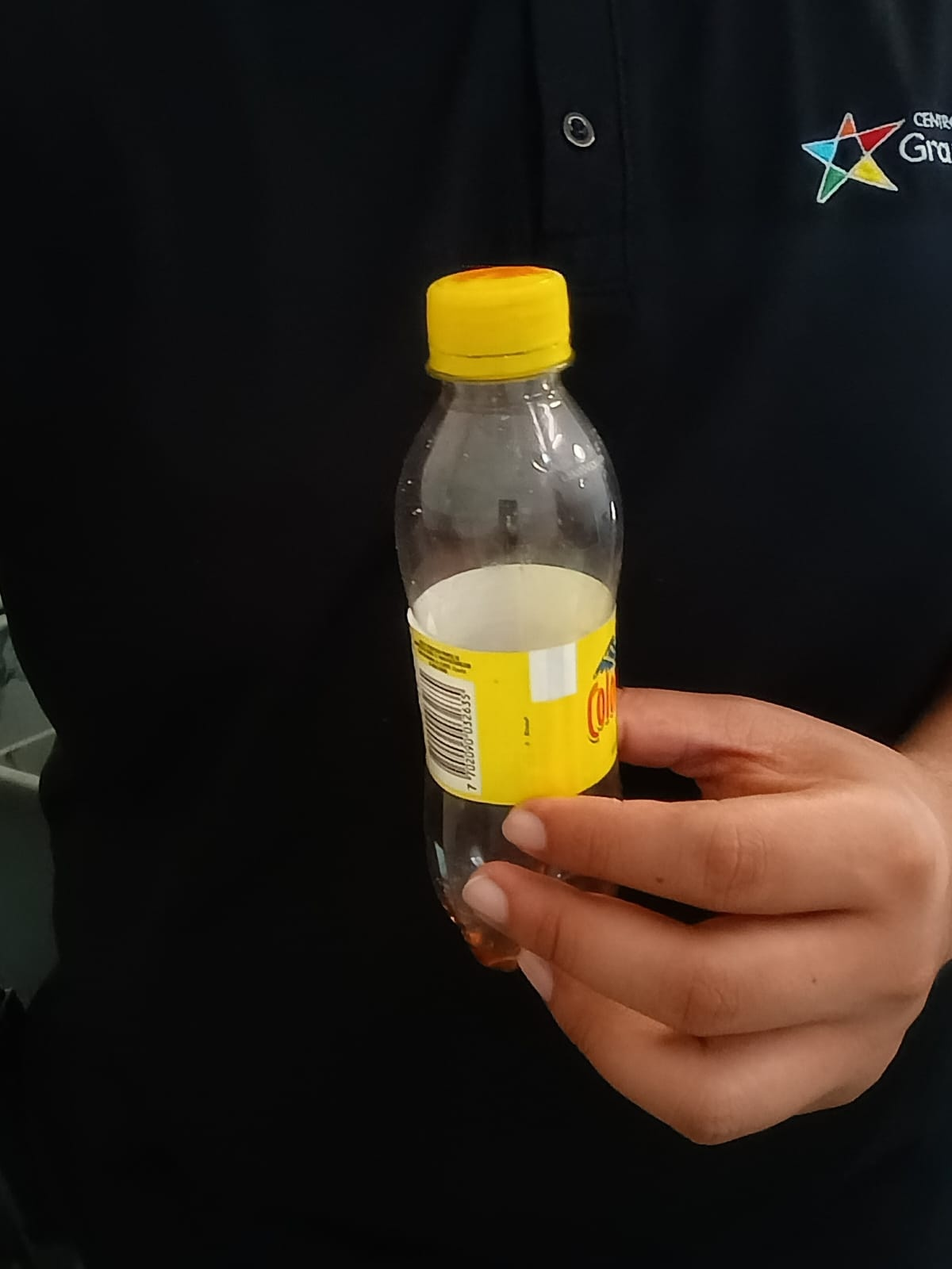Plastico: (391, 262, 628, 972)
